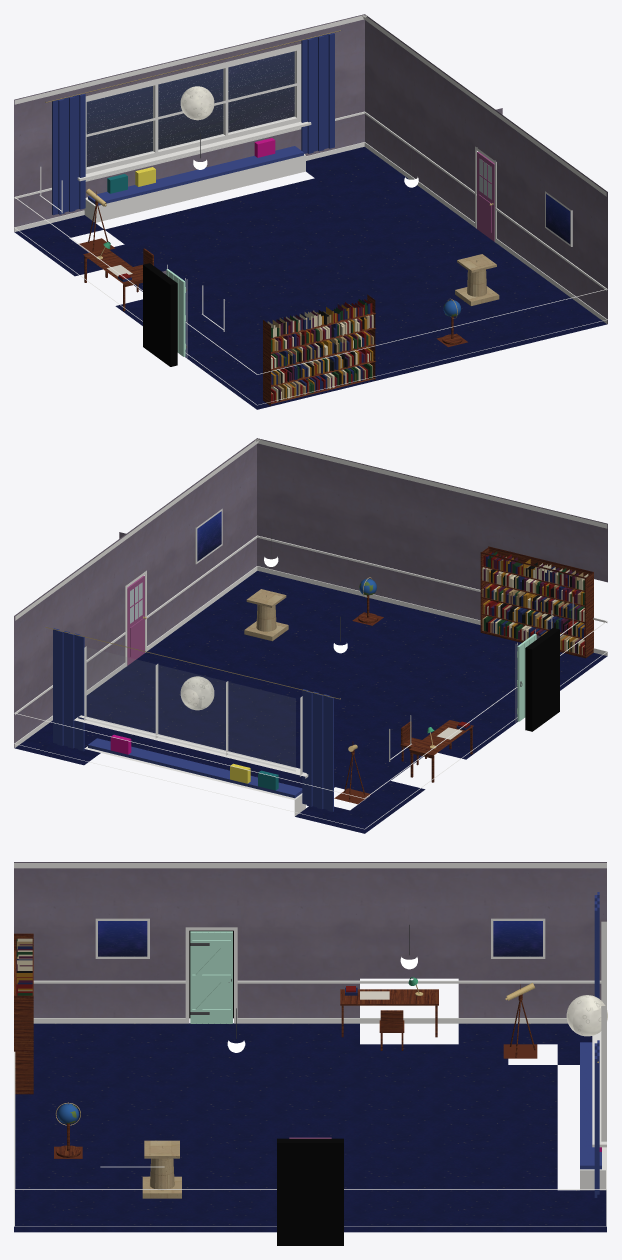
Rendered from rdwe_moon_window.glb.
The picture shows the model from 3 angles, top to bottom: view 1: azimuth 30°, elevation 25°; view 2: azimuth 150°, elevation 25°; view 3: azimuth 270°, elevation 25°; orthographic projection. The views are drawn at different scales.
Visible parts, largest first — view 1: Carpet_Stars, Plaster_Lilac, Trim_White, Window_Night, Glass_Clear, Paint_Palette, Curtain_Navy, Wood_Dark, Void_Black, Velvet_Navy, DoorLeaf_hall, Marble (+4 smaller); view 2: Carpet_Stars, Plaster_Lilac, Glass_Clear, Trim_White, Paint_Palette, Curtain_Navy, Wood_Dark, Void_Black, Velvet_Navy, DoorLeaf_hall, Marble, Moon (+2 smaller); view 3: Carpet_Stars, Plaster_Lilac, Trim_White, Void_Black, Wood_Dark, DoorLeaf_sill, Star_Chart, Marble, Velvet_Navy, Curtain_Navy, Paint_Palette, Moon.
Boxes of the visible parts, x1,y1,x2,y2 form: Carpet_Stars: [14, 147, 607, 409]; Plaster_Lilac: [14, 14, 607, 323]; Trim_White: [14, 14, 607, 405]; Window_Night: [86, 51, 294, 166]; Glass_Clear: [87, 51, 295, 167]; Paint_Palette: [107, 138, 373, 402]; Curtain_Navy: [52, 33, 334, 215]; Wood_Dark: [78, 191, 467, 405]; Void_Black: [143, 263, 177, 366]; Velvet_Navy: [88, 146, 303, 205]; DoorLeaf_hall: [477, 151, 494, 241]; Marble: [455, 254, 499, 305]; Carpet_Stars: [14, 571, 607, 833]; Plaster_Lilac: [14, 438, 607, 747]; Glass_Clear: [86, 648, 295, 770]; Trim_White: [14, 438, 607, 829]; Paint_Palette: [110, 551, 588, 790]; Curtain_Navy: [53, 628, 333, 811]; Wood_Dark: [334, 546, 593, 804]; Void_Black: [525, 628, 559, 731]; Velvet_Navy: [88, 738, 302, 798]; DoorLeaf_hall: [127, 575, 146, 665]; Marble: [244, 589, 288, 641]; Moon: [180, 676, 214, 710]; Carpet_Stars: [14, 1023, 606, 1232]; Plaster_Lilac: [14, 862, 606, 1017]; Trim_White: [14, 863, 606, 1226]; Void_Black: [189, 930, 343, 1245]; Wood_Dark: [14, 933, 537, 1158]; DoorLeaf_sill: [190, 931, 232, 1023]; Star_Chart: [98, 921, 542, 956]; Marble: [142, 1140, 181, 1198]; Velvet_Navy: [580, 1042, 601, 1169]; Curtain_Navy: [594, 892, 599, 1197]; Paint_Palette: [16, 938, 601, 1151]; Moon: [566, 995, 607, 1036].
Bounding box in the file's own units: 11.1 × 3.65 × 12.02.
Materials: 23 (12 with a texture image).
